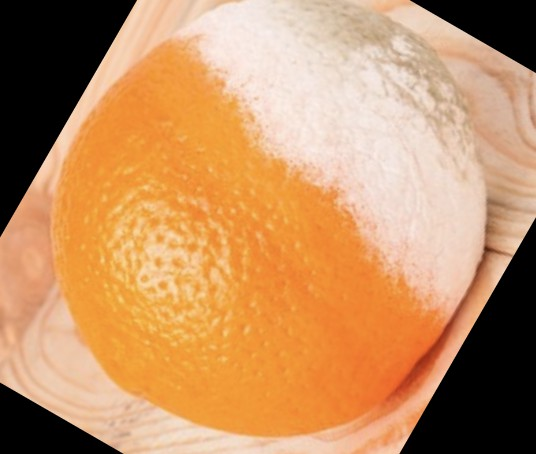rotten_orange: (51, 1, 488, 438)
